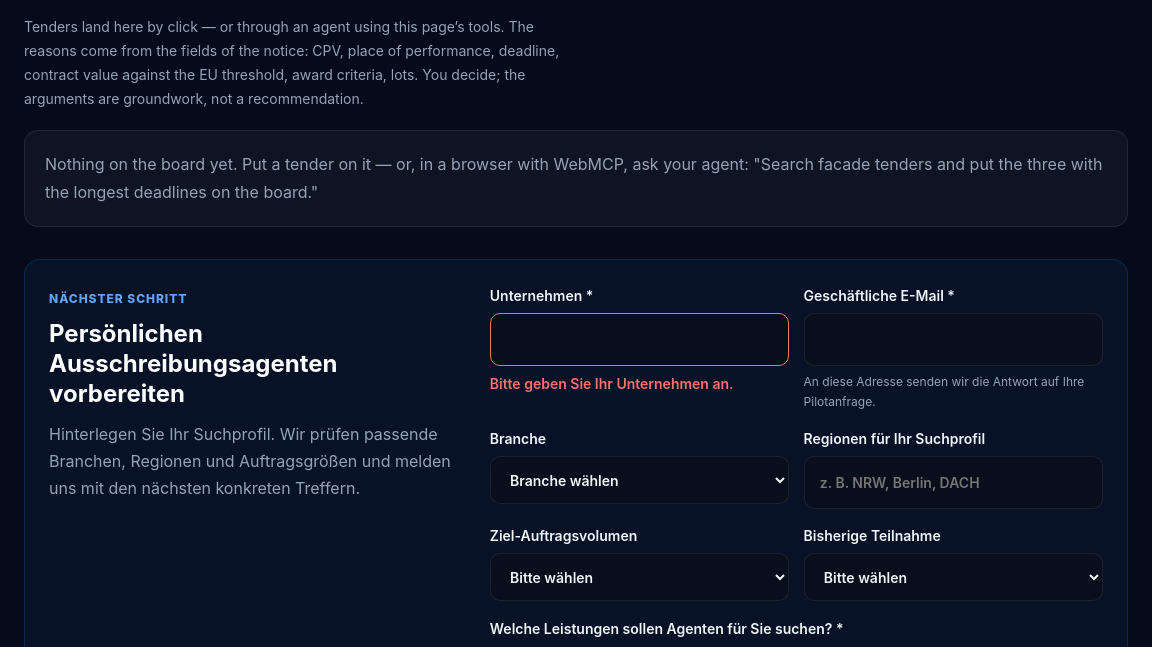
it: beschreibt ein ungültiges Pflichtfeld und entfernt den Fehler nach Eingabe
The width and height of the screenshot is (1152, 647).
(page scrolled)
Expected: the text "Bitte geben Sie Ihr Unternehmen an." is shown, [490,375,734,392]
Type "Beispiel GmbH" into the field labelled "Unternehmen *" at (640, 340), box [490,313,789,366]
(page scrolled)
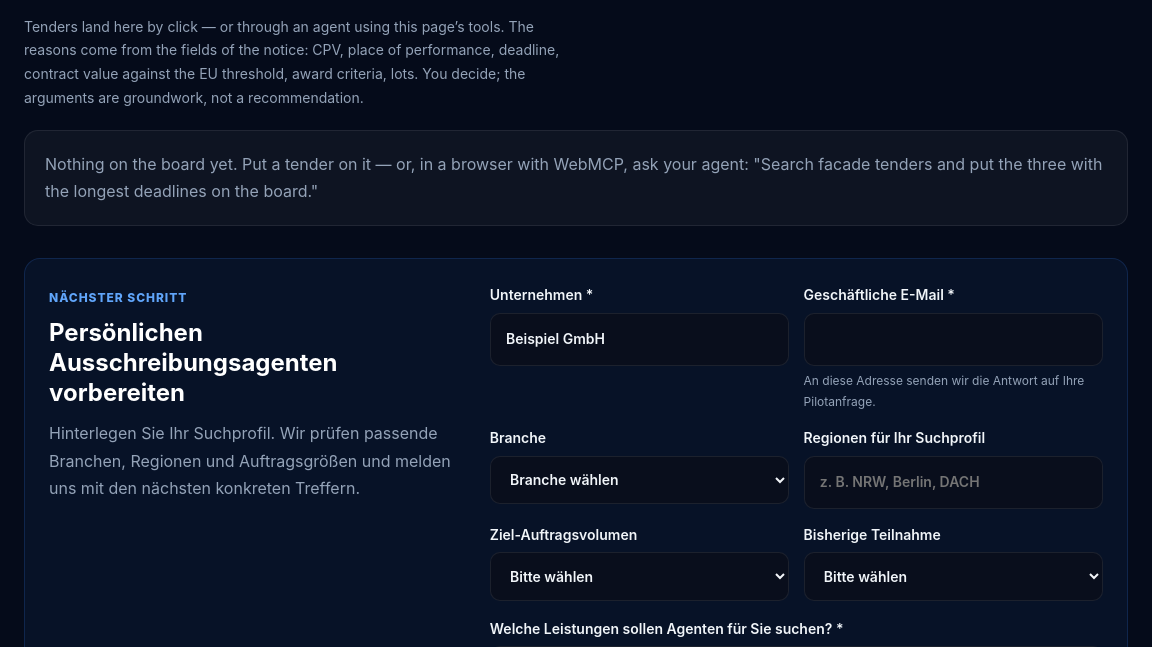
Expected: the text "Bitte geben Sie Ihr Unternehmen an." is gone
